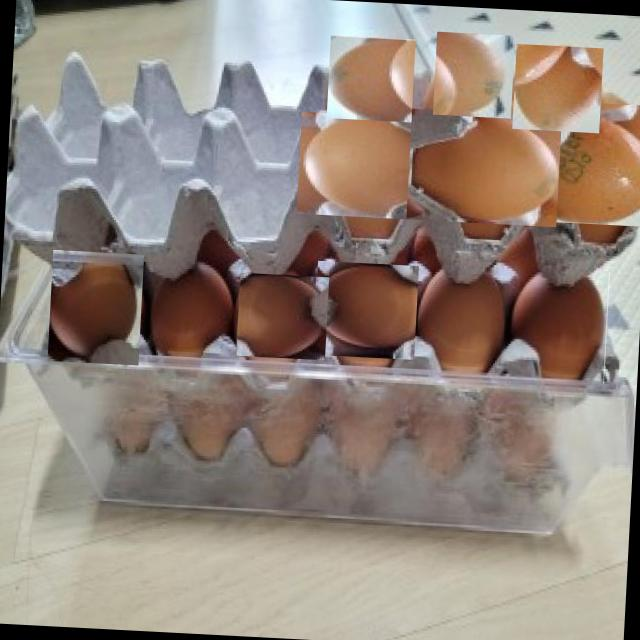eggs: (414, 99, 552, 237), (517, 91, 640, 233), (307, 101, 438, 232), (503, 267, 610, 384), (412, 258, 512, 376), (48, 249, 146, 366), (315, 260, 418, 362), (148, 257, 241, 360), (228, 267, 324, 365), (512, 43, 605, 134), (326, 35, 416, 124), (432, 32, 516, 118)
